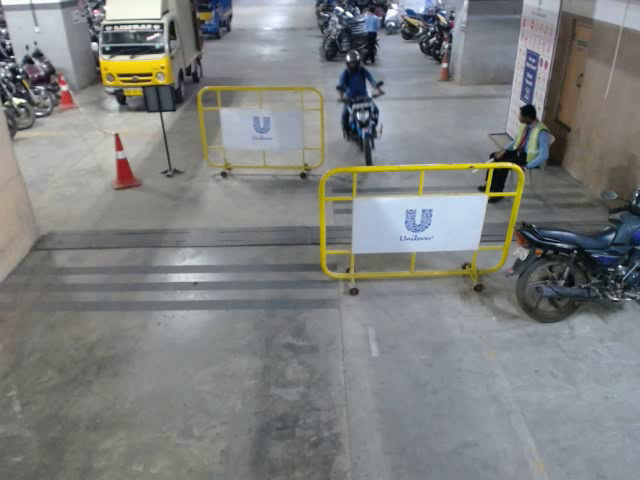with_helmet: (344, 47, 363, 77)
